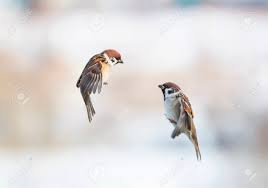hsparrow: (65, 46, 129, 132), (156, 79, 210, 162)
